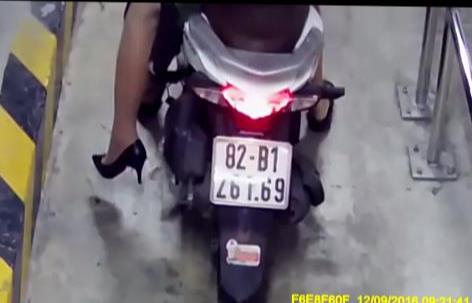LP: (211, 135, 293, 207)
